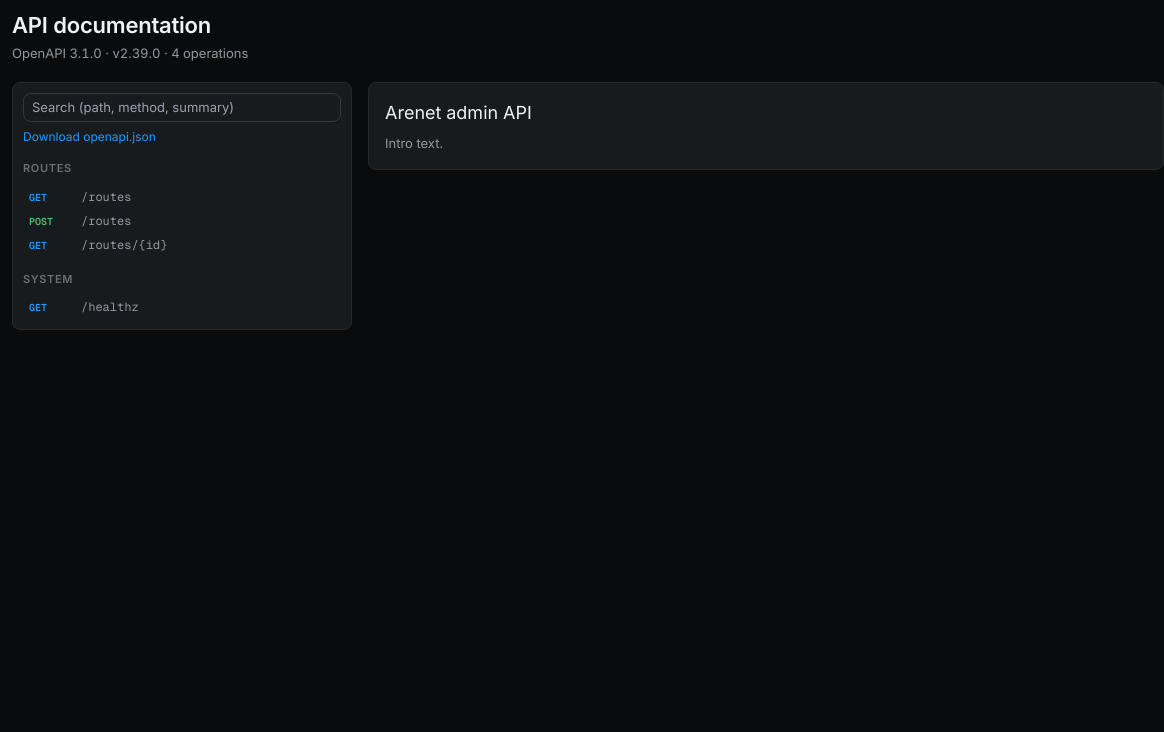
it: /api-docs page › sends a GET directly once the path parameters are filled
Click the button with test id "api-op-link" showing "GET /routes/{id}" at (124, 245), box left=23, top=233, right=341, bottom=257
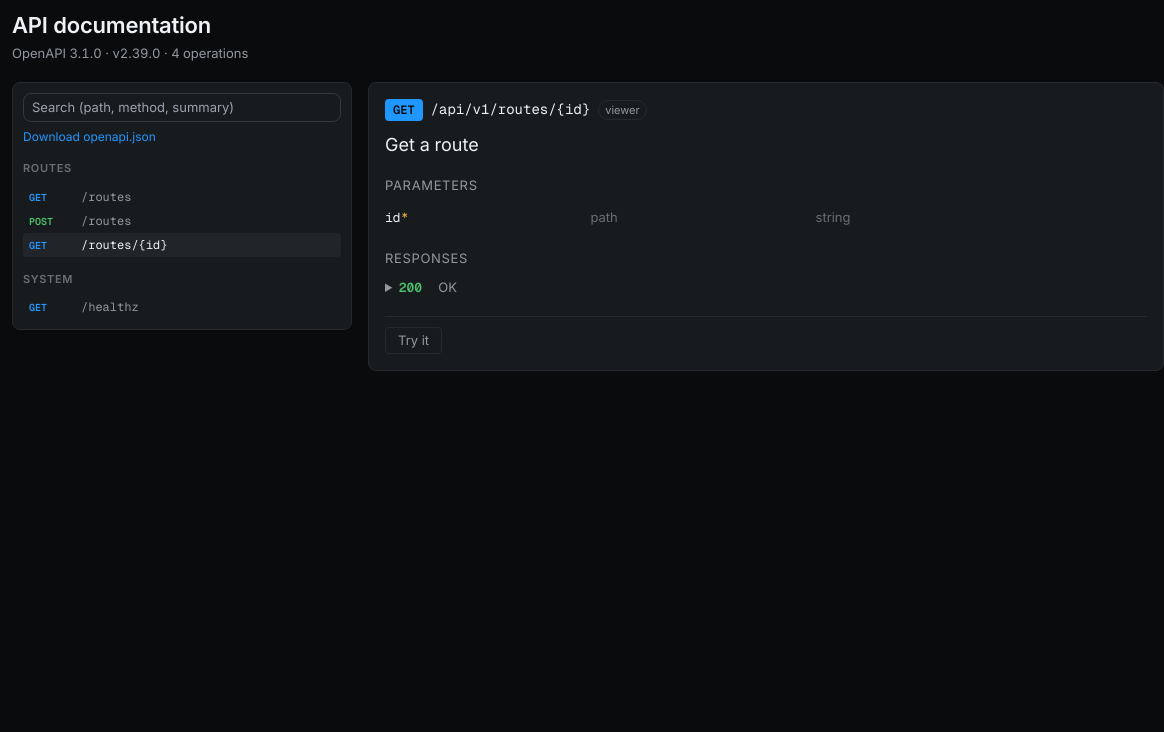
Click the button with test id "api-try-open" at (414, 341), box left=385, top=327, right=442, bottom=354
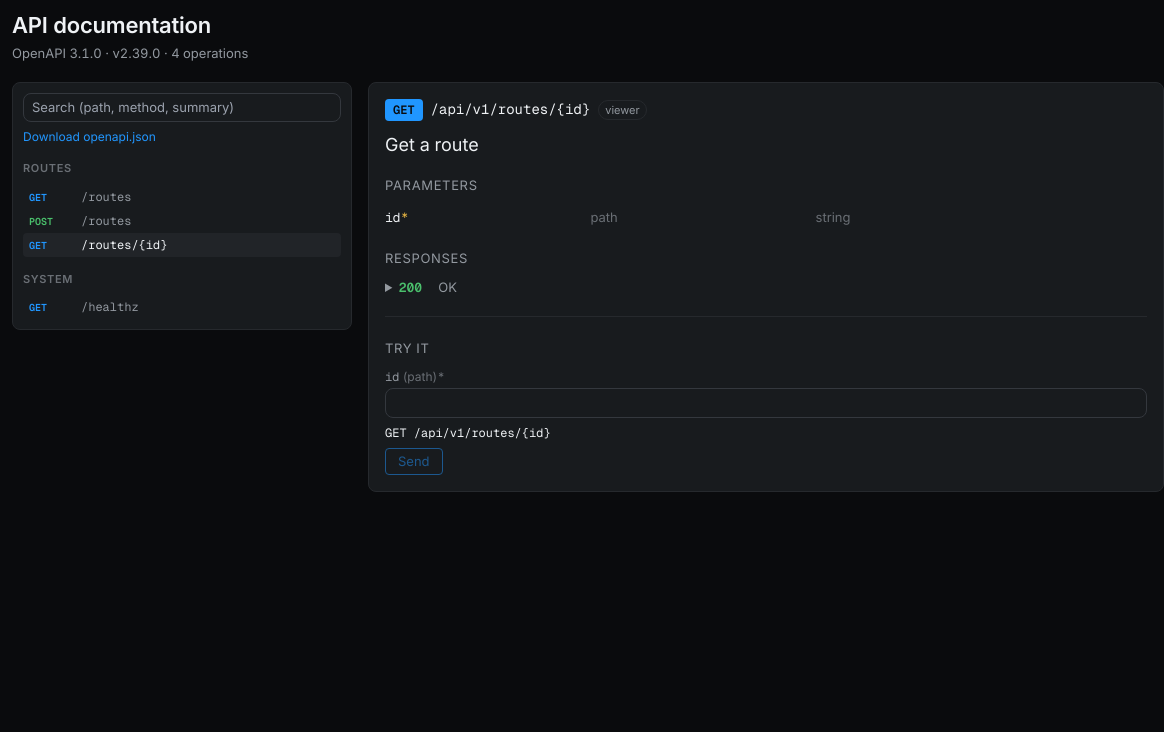
Result: the button with test id "api-send" is disabled at left=385, top=448, right=443, bottom=475
Type "r1" into the field with test id "api-param-id" at (766, 403), box left=385, top=388, right=1147, bottom=418
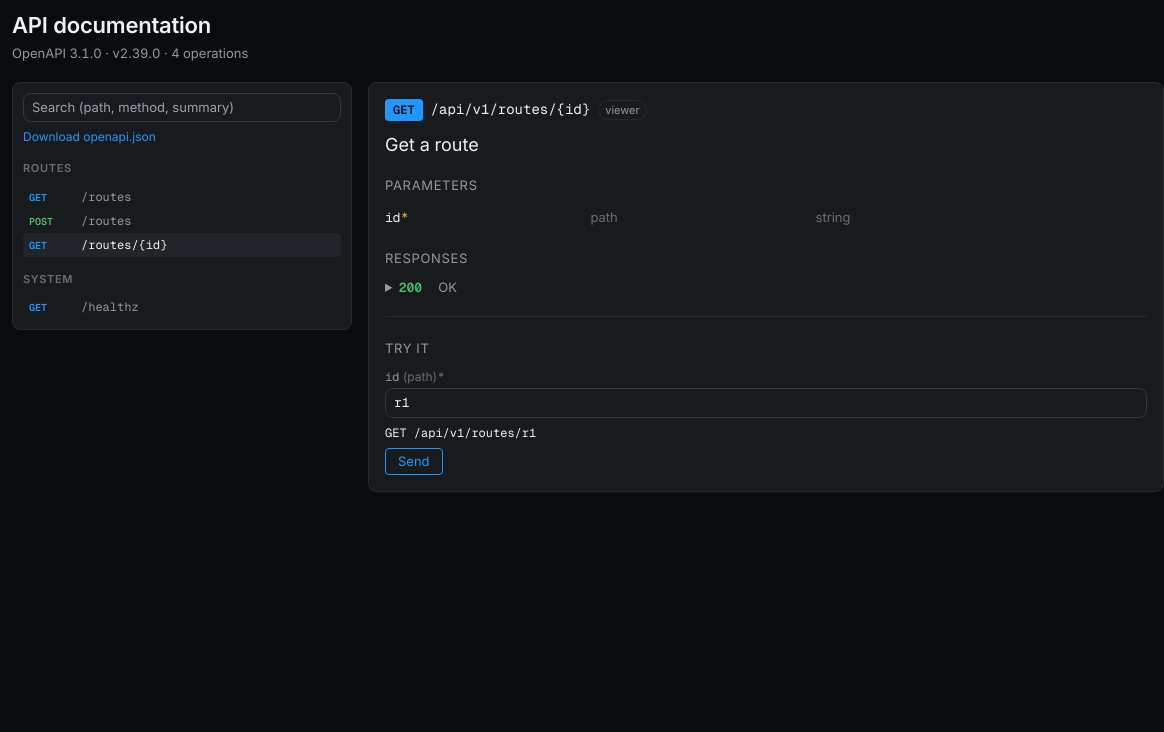
Click the button with test id "api-send" at (414, 462), box left=385, top=448, right=443, bottom=475
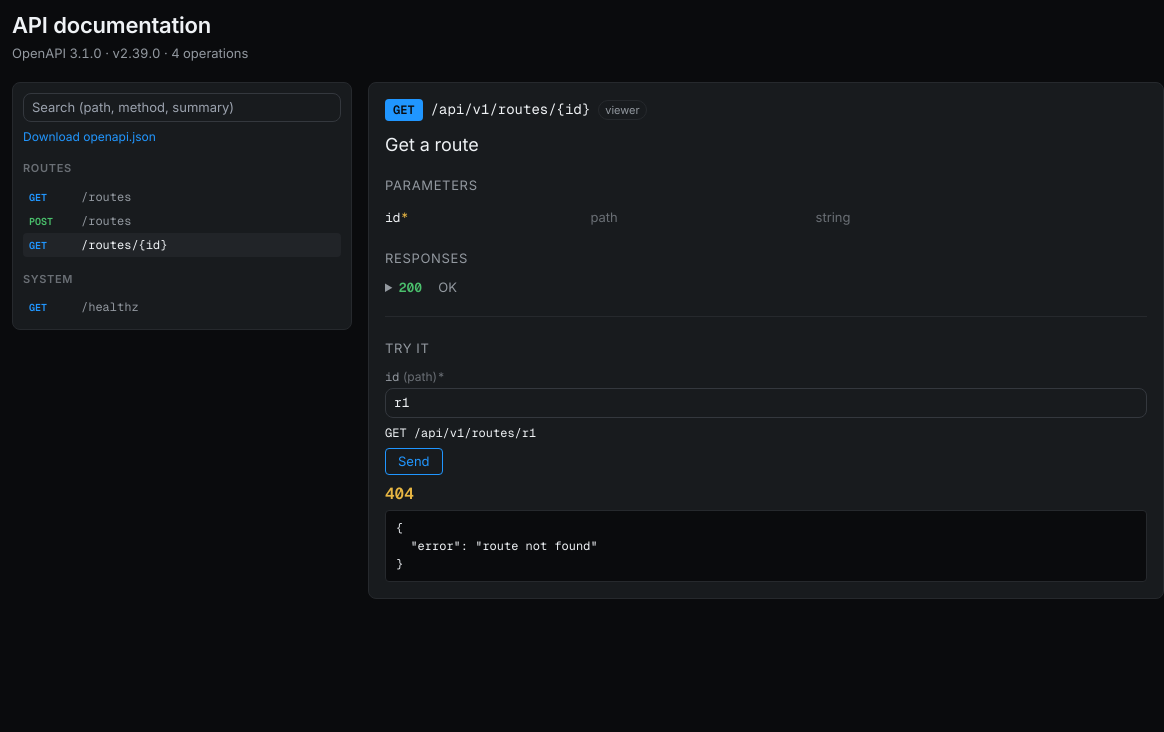
Result: the element with test id "api-result" is shown at left=385, top=481, right=1147, bottom=582
Result: the element with test id "api-result" shows "route not found" at left=396, top=520, right=598, bottom=572
